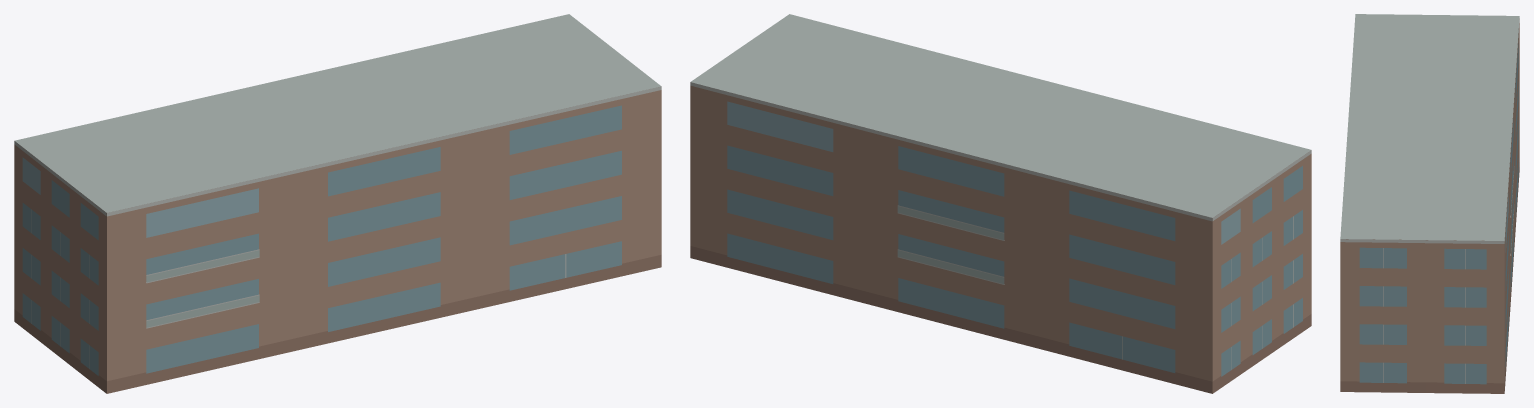
File: residential-e1478296-0d1d-4a35-8678-5f3fa57a3886.glb
The picture shows the model from 3 angles, left to right: view 1: azimuth 30°, elevation 25°; view 2: azimuth 150°, elevation 25°; view 3: azimuth 270°, elevation 25°; orthographic projection. The views are drawn at different scales.
Visible parts, largest first — view 1: residential-e1478296-0d1d-4a35-8678-5f3fa57a3886.tmp; view 2: residential-e1478296-0d1d-4a35-8678-5f3fa57a3886.tmp; view 3: residential-e1478296-0d1d-4a35-8678-5f3fa57a3886.tmp.
Part boxes in pixels (<box>): residential-e1478296-0d1d-4a35-8678-5f3fa57a3886.tmp: <box>14,14,661,393</box>; residential-e1478296-0d1d-4a35-8678-5f3fa57a3886.tmp: <box>690,14,1311,393</box>; residential-e1478296-0d1d-4a35-8678-5f3fa57a3886.tmp: <box>1340,14,1519,393</box>.
Size of the model in its own units: 38.86 by 12.2 by 12.98.
